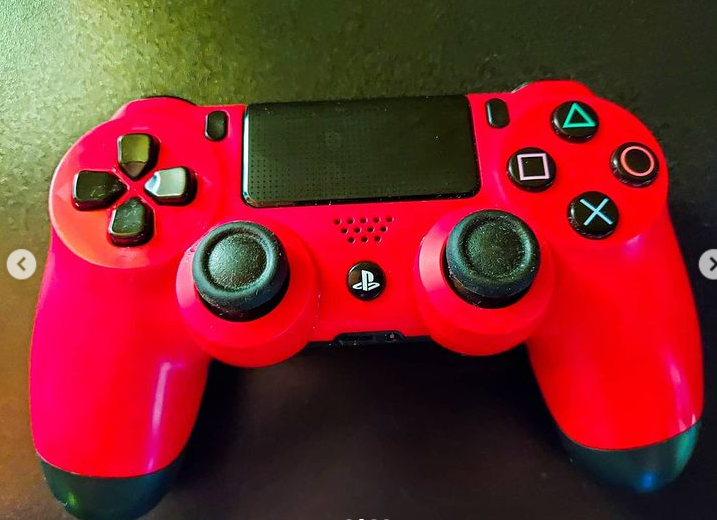gamingconsole: (32, 95, 701, 511)
